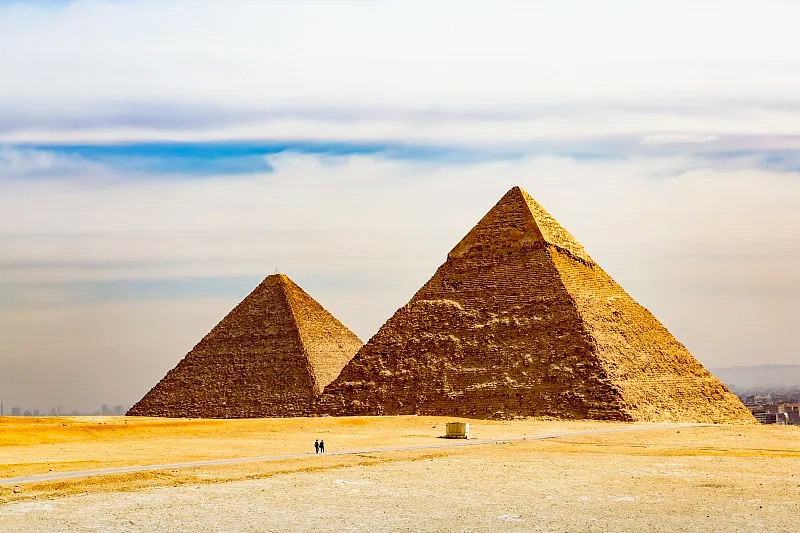Pyramid: (311, 186, 761, 423), (126, 274, 366, 419)
